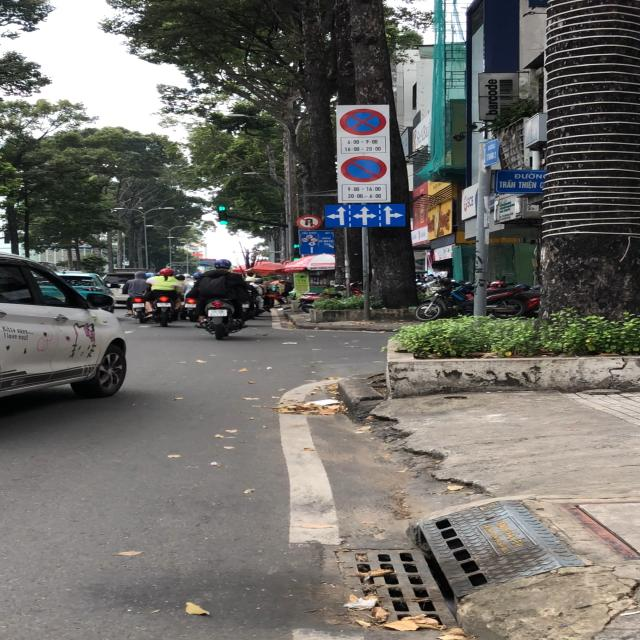Bien bao cam do xe: (337, 155, 391, 185)
Bien bao cam dung xe va do xe: (338, 106, 392, 136)
Bien bao cam quay dau xe: (295, 214, 322, 231)
